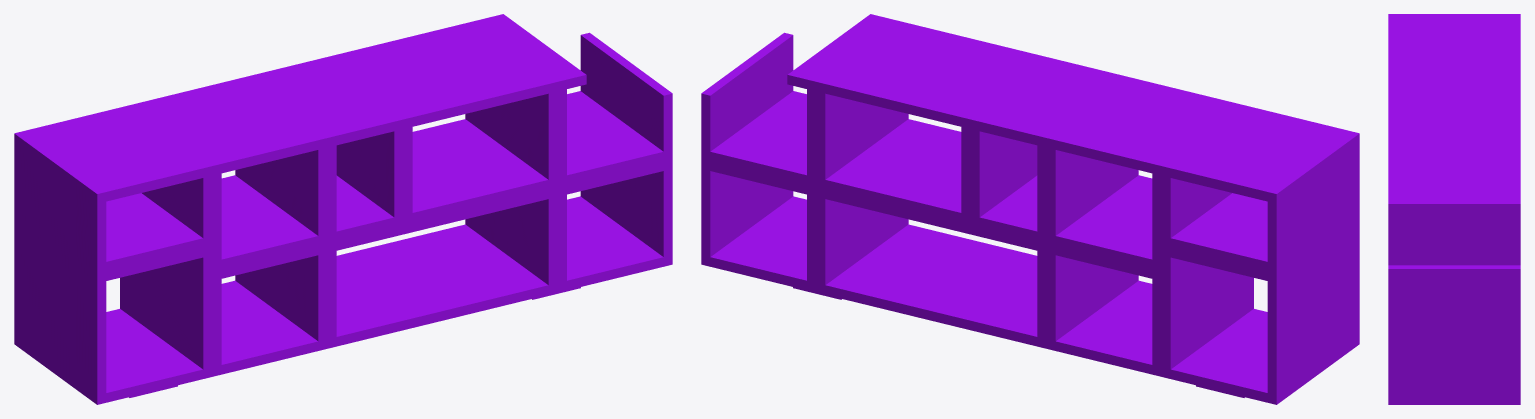
The model's file is BookShelfSlim.fbx.
The picture shows the model from 3 angles, left to right: view 1: azimuth 30°, elevation 25°; view 2: azimuth 150°, elevation 25°; view 3: azimuth 270°, elevation 25°; orthographic projection. The views are drawn at different scales.
Parts seen in each view (by area): view 1: BookshelfSlim; view 2: BookshelfSlim; view 3: BookshelfSlim.
Part boxes in pixels (<box>): BookshelfSlim: <box>14,14,672,404</box>; BookshelfSlim: <box>701,14,1359,404</box>; BookshelfSlim: <box>1388,14,1520,404</box>.
Size of the model in its own units: 200 by 80 by 50.
